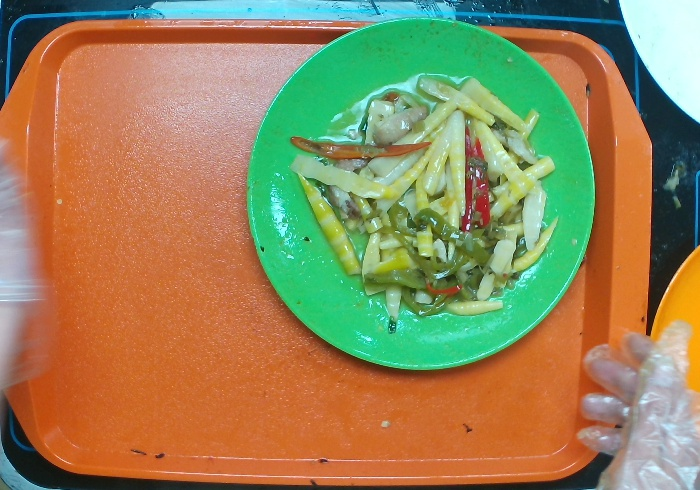HZYJPL-Lv_Se_Yuan_Pan: (230, 10, 601, 383)
